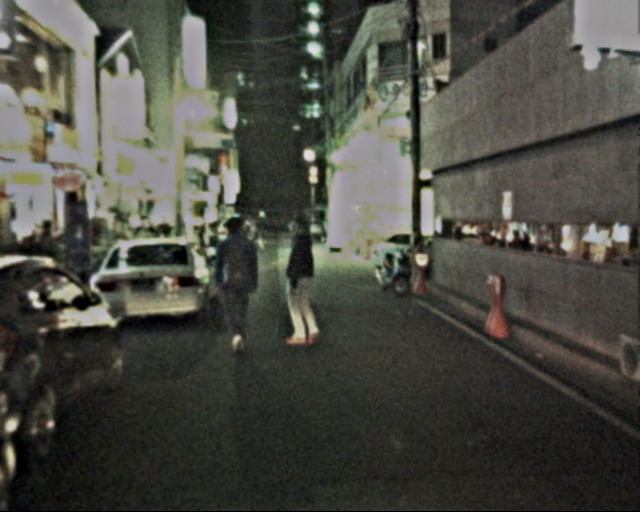person: (208, 216, 264, 351), (274, 217, 328, 345)
